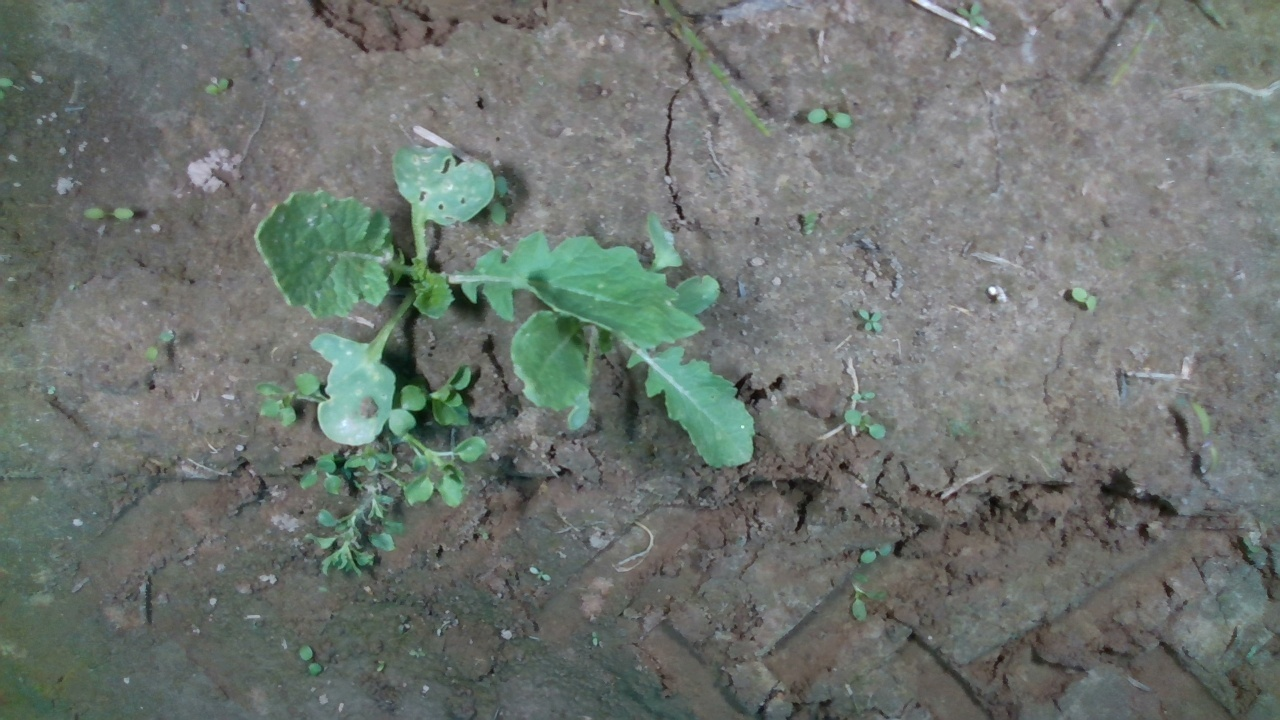weed: (1189, 399, 1220, 479), (843, 408, 888, 440), (142, 326, 176, 364), (955, 0, 992, 33), (805, 107, 853, 129), (80, 205, 135, 222), (298, 644, 324, 678), (856, 306, 883, 335), (1069, 286, 1099, 311), (859, 541, 892, 563), (202, 77, 230, 96), (849, 391, 877, 402)
